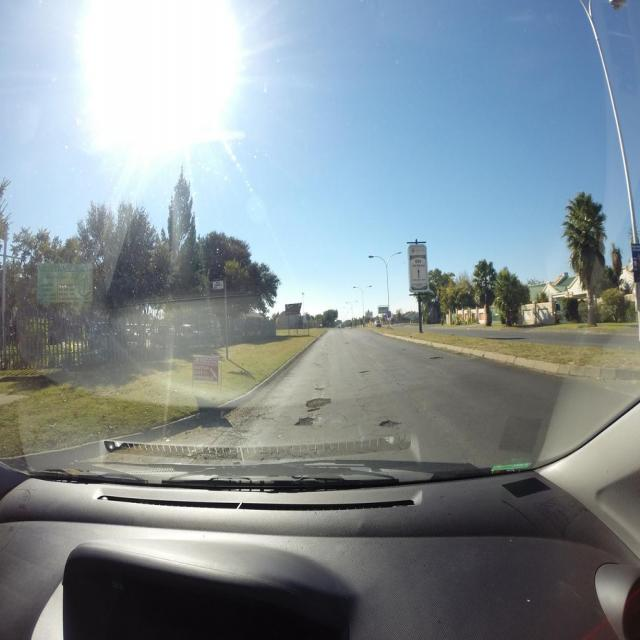Pothole: (306, 398, 332, 412), (293, 414, 322, 426), (379, 420, 402, 427), (430, 356, 444, 361), (314, 387, 324, 391), (358, 371, 370, 374), (402, 348, 406, 351), (323, 344, 328, 346), (345, 342, 349, 344), (316, 364, 320, 366), (313, 362, 316, 364)
